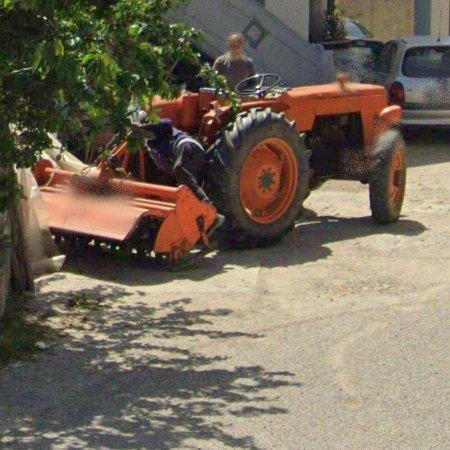tractors: (32, 75, 407, 261)
